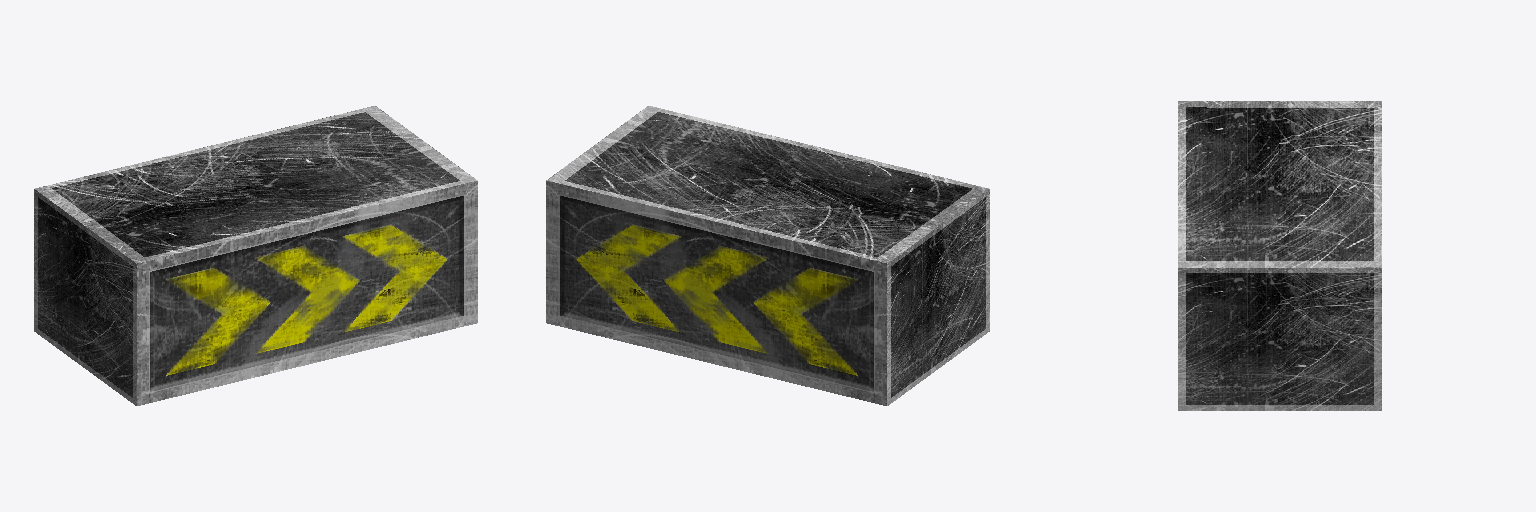
3 renders of one model, left to right at view 1: azimuth 30°, elevation 25°; view 2: azimuth 150°, elevation 25°; view 3: azimuth 270°, elevation 25°, orthographic.
Parts seen in each view (by area): view 1: Mesh1 Model; view 2: Mesh1 Model; view 3: Mesh1 Model.
Boxes of the visible parts, <box> form: Mesh1 Model: <box>34,106,477,405</box>; Mesh1 Model: <box>546,106,989,405</box>; Mesh1 Model: <box>1178,101,1381,410</box>.
Size of the model in its own units: 2.5 by 1 by 1.3.
Materials: 1 (1 with a texture image).